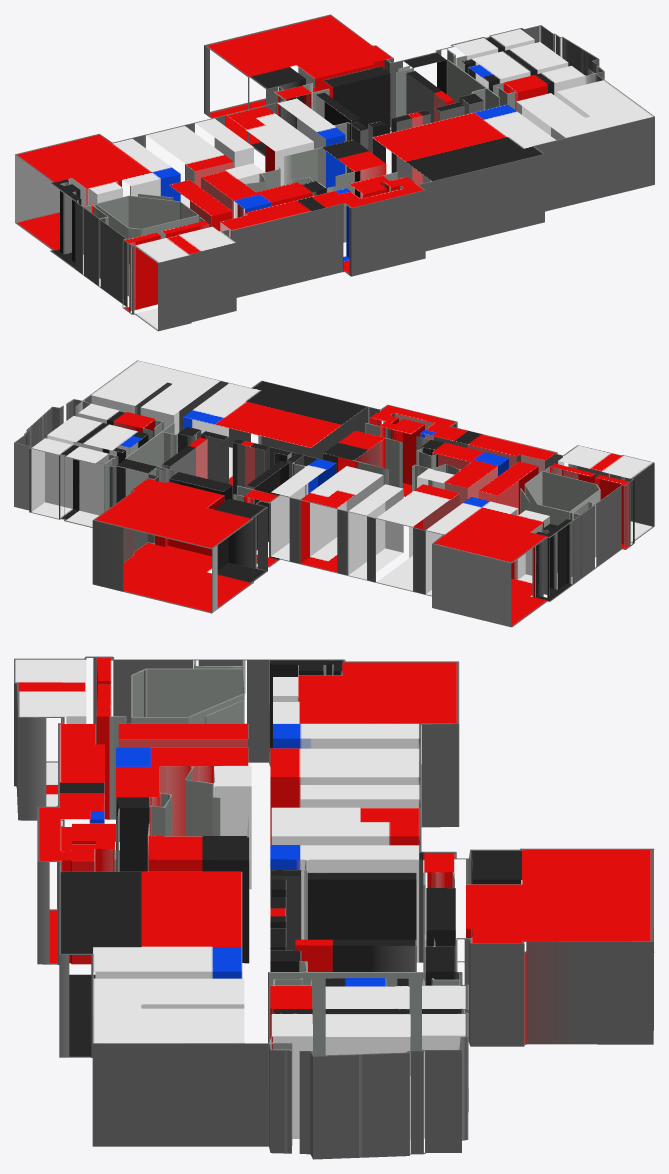
The model's file is floor1Blend.dae.
The picture shows the model from 3 angles, top to bottom: view 1: azimuth 30°, elevation 25°; view 2: azimuth 150°, elevation 25°; view 3: azimuth 270°, elevation 25°; orthographic projection. The views are drawn at different scales.
Parts seen in each view (by area): view 1: Object_10; view 2: Object_10; view 3: Object_10.
Part boxes in pixels (left/top/right/bottom): Object_10: left=14, top=14, right=654, bottom=331; Object_10: left=14, top=360, right=654, bottom=627; Object_10: left=14, top=656, right=654, bottom=1159.
Size of the model in its own units: 7.8 by 5.28 by 0.9349.
1 material, 1 textured.
